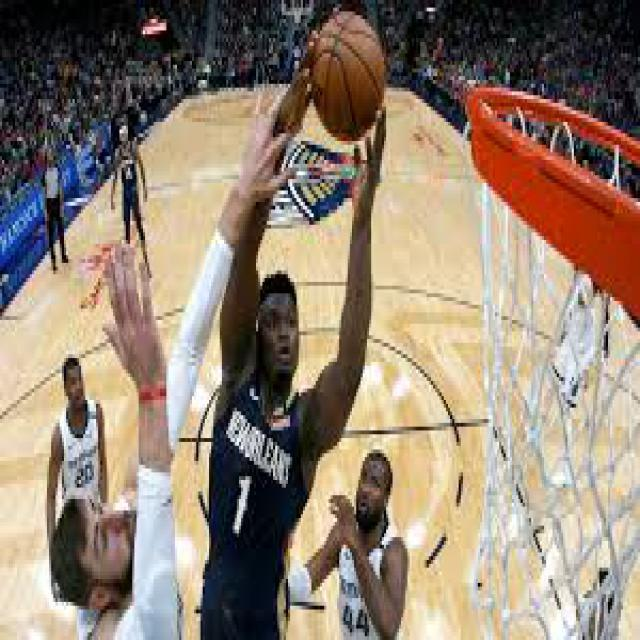basketball: (312, 11, 386, 145)
rim: (465, 80, 638, 328)
